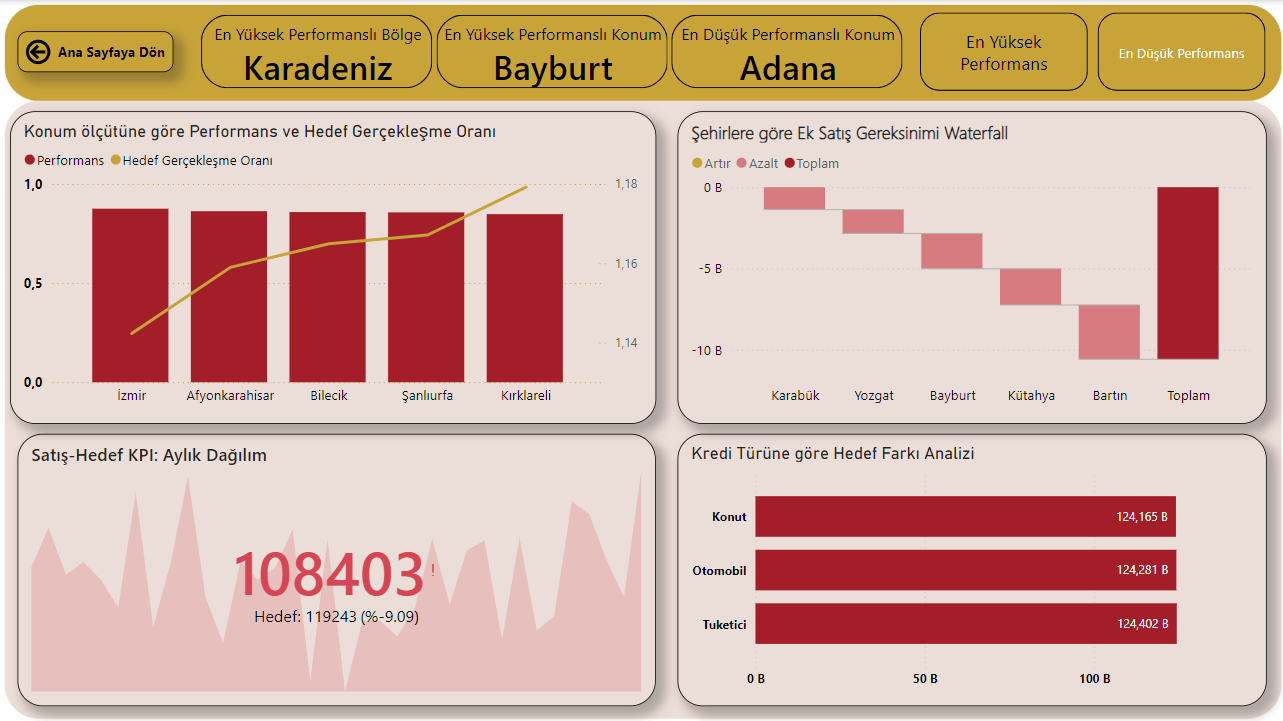

What the dashboard file says about the page in this screenshot:
{"tool":"powerbi","page":{"name":"Performans Analizi","canvas":[1280,720],"ordinal":2},"visuals":[{"type":"image","box":[0,0,1280.3,720.4],"z":0},{"type":"lineClusteredColumnComboChart","title":"Şehirlere göre Performans ve Hedef Gerçekleşme Oranı Analizi","fields":{"Category":["Şubeler.Konum"],"Y":["Krediler.Performans"],"Y2":["Krediler.Hedef Gerçekleşme Oranı"]},"box":[17.8,109.8,635.3,311.5],"z":1000},{"type":"bookmarkNavigator","box":[915.3,12.3,344.4,78.2],"z":3000},{"type":"waterfallChart","title":"Şehirlere göre Ek Satış Gereksinimi Waterfall Grafiği","fields":{"Y":["Krediler.Ek Satış Gereksinimi"],"Category":["Şubeler.Konum"]},"box":[673.7,109.5,586.1,310.8],"z":4000},{"type":"barChart","title":"Kredi Türüne göre Hedef Farkı Analizi","fields":{"Y":["Krediler.Hedef Farkı"],"Category":["Krediler.Kategori"]},"box":[673.7,431.3,586.1,271.1],"z":6000},{"type":"cardVisual","fields":{"Data":["Krediler.En Yüksek Performanslı Bölge","Krediler.En Yüksek Performanslı Konum","Krediler.En Düşük Performanslı Konum"]},"box":[194.9,9.6,708.1,83.7],"z":7000},{"type":"kpi","title":"Satış-Hedef KPI: Aylık Dağılım","fields":{"Indicator":["Krediler.Toplam Satış"],"TrendLine":["Krediler.Ay"],"Goal":["Krediler.Satış Hedefi"]},"box":[17.8,431.3,635.3,271.1],"z":8000},{"type":"actionButton","title":"Ana Sayfaya Dön","box":[17.8,31.6,155.1,41.2],"z":9000}]}

Visuals, with their boxes in screenshot pixels (x1, y1, x2, y2), scaled from the page's 1280x720 canvas onto the 1283x721 screenshot:
image: <bbox>0, 0, 1282, 720</bbox>
"Şehirlere göre Performans ve Hedef Gerçekleşme Oranı Analizi" lineClusteredColumnComboChart: <bbox>18, 110, 655, 422</bbox>
bookmarkNavigator: <bbox>917, 12, 1263, 91</bbox>
"Şehirlere göre Ek Satış Gereksinimi Waterfall Grafiği" waterfallChart: <bbox>675, 110, 1263, 421</bbox>
"Kredi Türüne göre Hedef Farkı Analizi" barChart: <bbox>675, 432, 1263, 703</bbox>
cardVisual - Krediler.En Yüksek Performanslı Bölge x Krediler.En Yüksek Performanslı Konum: <bbox>195, 10, 905, 93</bbox>
"Satış-Hedef KPI: Aylık Dağılım" kpi: <bbox>18, 432, 655, 703</bbox>
"Ana Sayfaya Dön" actionButton: <bbox>18, 32, 173, 73</bbox>
